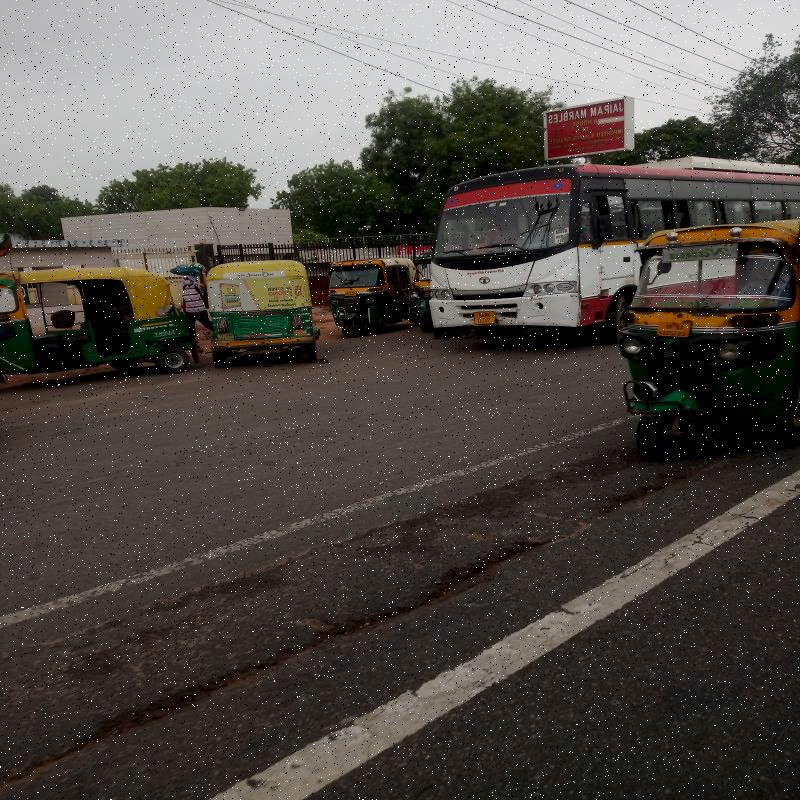bus: (418, 169, 800, 340)
